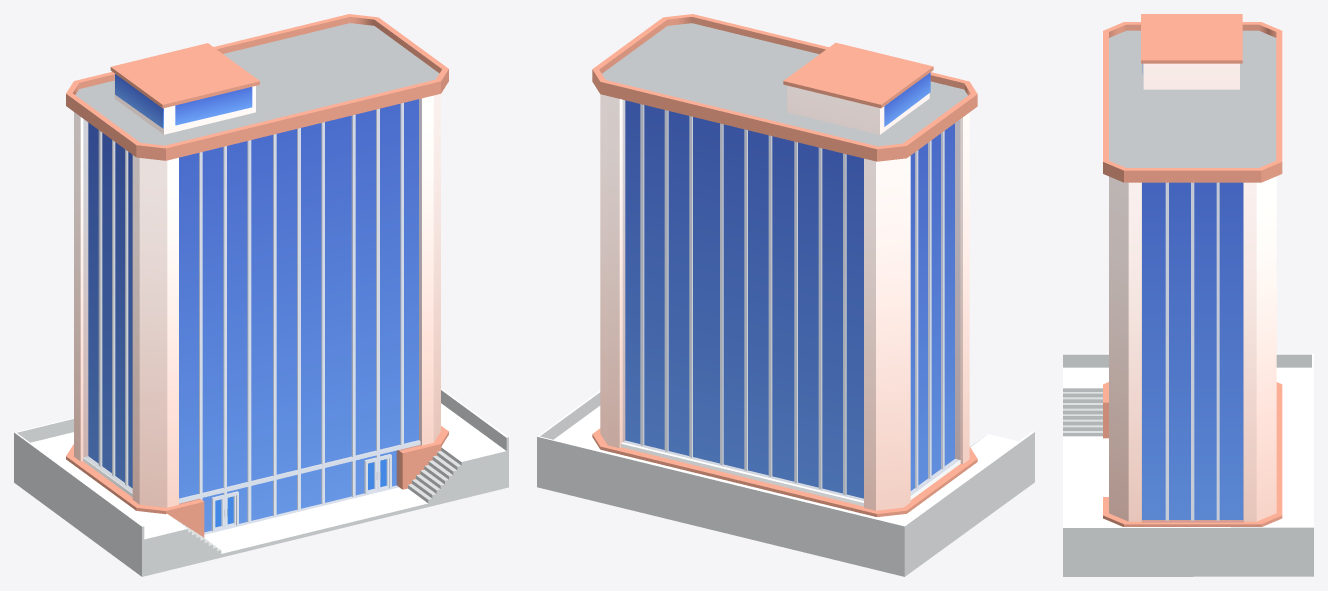
Rendered from Building_Business_01.glb.
3 views of the same model, side by side, from view 1: azimuth 30°, elevation 25°; view 2: azimuth 150°, elevation 25°; view 3: azimuth 270°, elevation 25° (orthographic). The views are drawn at different scales.
Parts seen in each view (by area): view 1: Building_Business_01; view 2: Building_Business_01; view 3: Building_Business_01.
Part boxes in pixels (x1,y1,x2,y2): Building_Business_01: (14,14,508,576); Building_Business_01: (537,14,1034,576); Building_Business_01: (1063,14,1313,576).
Size of the model in its own units: 26.48 by 29.52 by 16.08.
2 materials, 2 textured.
